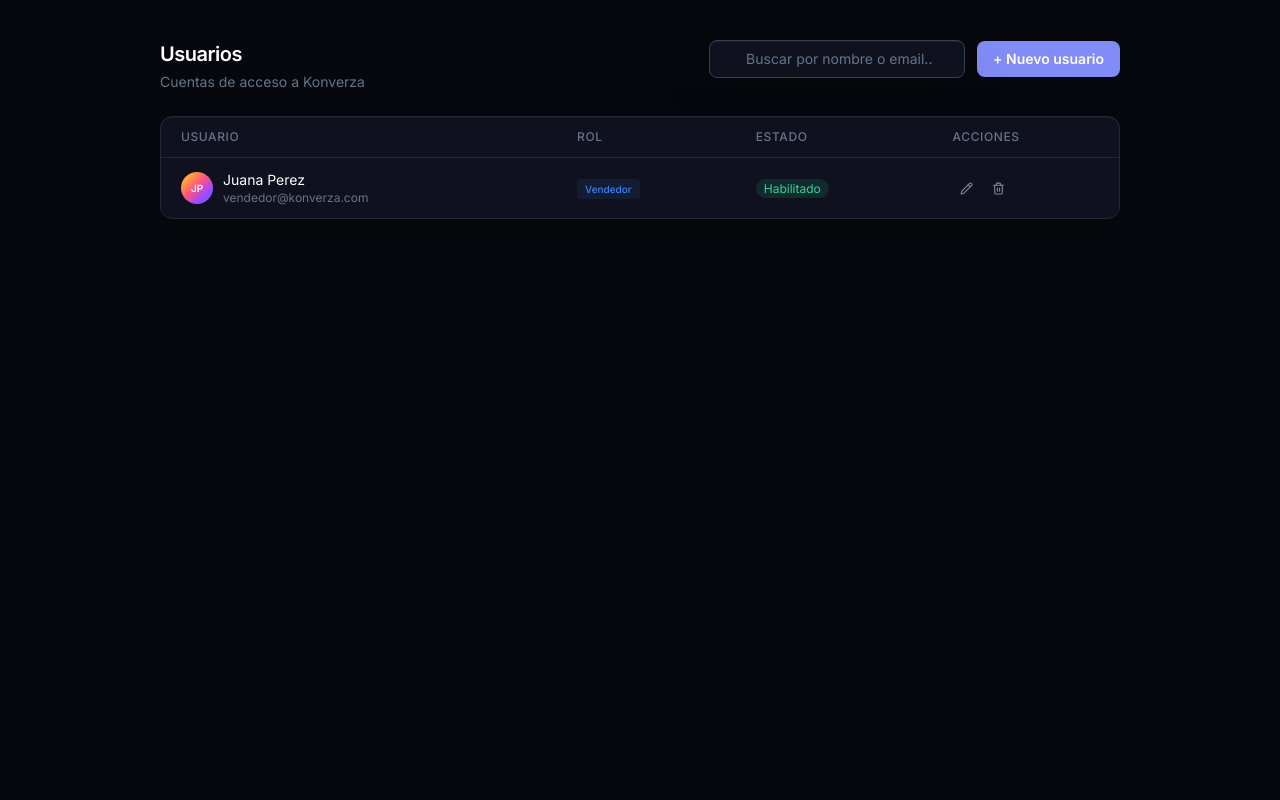
Scenario: UsersScreen › edit form pre-fills first name, last name, and email, and allows an optional password reset
Expected: the text "Juana Perez" is shown, [223, 171, 305, 188]
Click the button named "Editar": (967, 188) [953, 174, 981, 202]
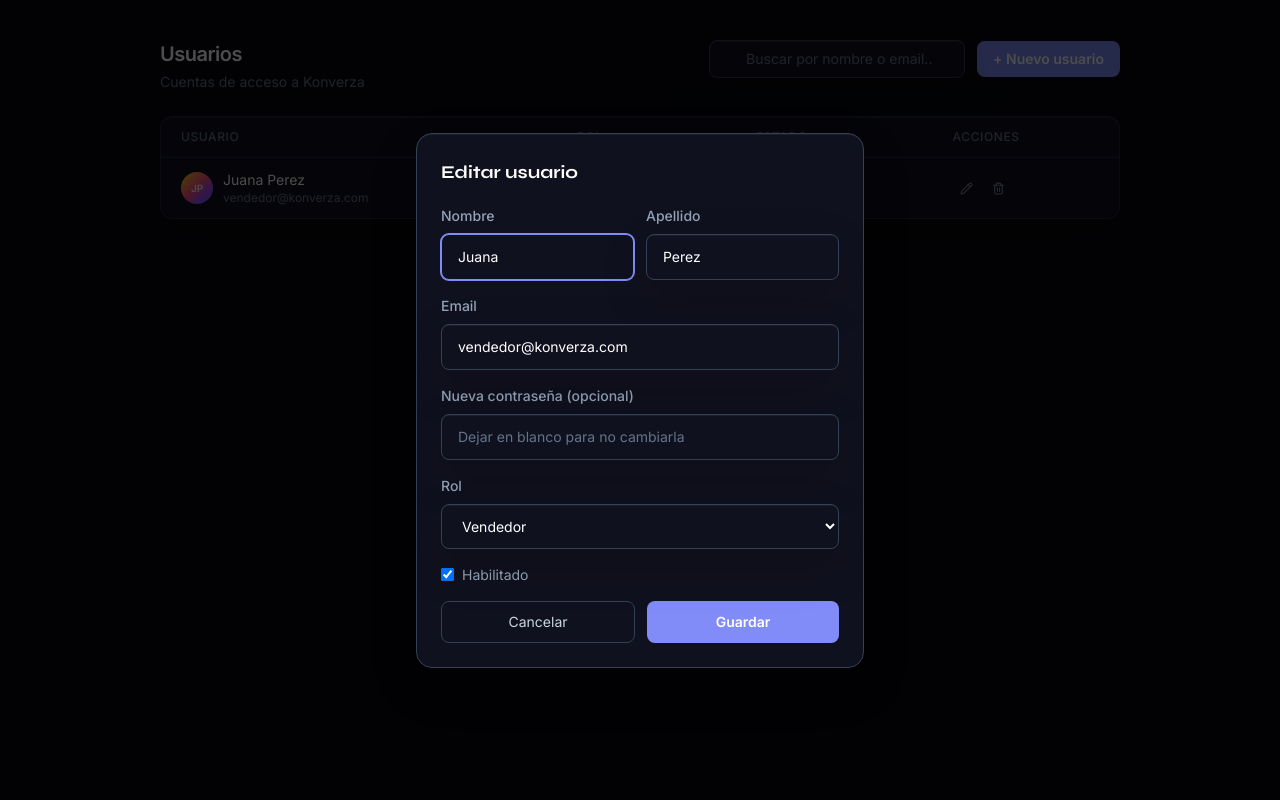
Expected: the field labelled "Nombre" holds "Juana", [441, 234, 634, 280]
Expected: the field labelled "Apellido" holds "Perez", [646, 234, 839, 280]
Expected: the field labelled "Email" holds "vendedor@konverza.com", [441, 324, 839, 370]
